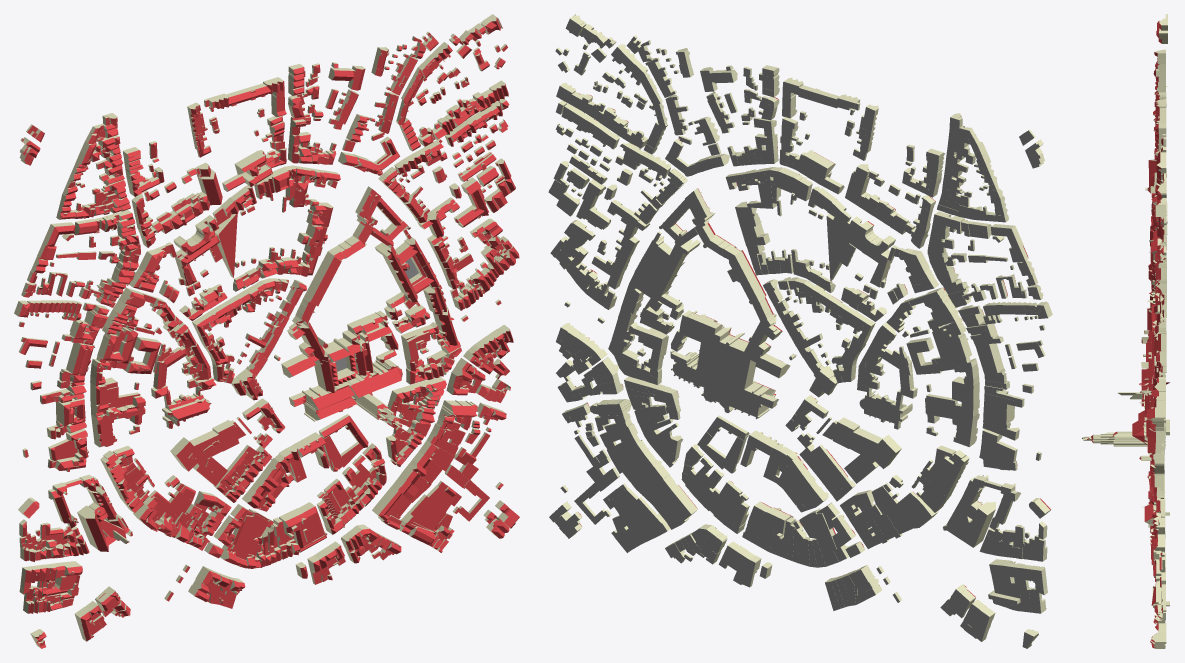
3 renders of one model, left to right at view 1: azimuth 30°, elevation 25°; view 2: azimuth 150°, elevation 25°; view 3: azimuth 270°, elevation 25°, orthographic. The views are drawn at different scales.
Parts seen in each view (by area): view 1: NL.IMBAG.Pand.0687100000029292-604, NL.IMBAG.Pand.0687100000029250-644, NL.IMBAG.Pand.0687100000029229-276, NL.IMBAG.Pand.0687100001313954-155, NL.IMBAG.Pand.0687100000029116-40, NL.IMBAG.Pand.0687100000029099-1, NL.IMBAG.Pand.0687100000031767-462, NL.IMBAG.Pand.0687100000029040-580, NL.IMBAG.Pand.0687100000028988-810, NL.IMBAG.Pand.0687100000028953-209, NL.IMBAG.Pand.0687100000029012-9, NL.IMBAG.Pand.0687100000030789-363 (+13 smaller); view 2: NL.IMBAG.Pand.0687100000029292-604, NL.IMBAG.Pand.0687100000029250-644, NL.IMBAG.Pand.0687100000029229-276, NL.IMBAG.Pand.0687100001313954-155, NL.IMBAG.Pand.0687100000029116-40, NL.IMBAG.Pand.0687100000029099-1, NL.IMBAG.Pand.0687100000031767-462, NL.IMBAG.Pand.0687100000029012-9, NL.IMBAG.Pand.0687100000029040-580, NL.IMBAG.Pand.0687100000028953-209, NL.IMBAG.Pand.0687100000028988-810, NL.IMBAG.Pand.0687100000030789-363 (+12 smaller); view 3: NL.IMBAG.Pand.0687100000029292-604, NL.IMBAG.Pand.0687100000029250-644, NL.IMBAG.Pand.0687100000028953-209, NL.IMBAG.Pand.0687100000025794-655, NL.IMBAG.Pand.0687100000029116-40, NL.IMBAG.Pand.0687100000028059-556, NL.IMBAG.Pand.0687100000026802-540, NL.IMBAG.Pand.0687100000028866-863, NL.IMBAG.Pand.0687100000031767-462, NL.IMBAG.Pand.0687100000028966-521, NL.IMBAG.Pand.0687100000028654-557, NL.IMBAG.Pand.0687100000028923-479 (+4 smaller).
Boxes of the visible parts, <box> form: NL.IMBAG.Pand.0687100000029292-604: <box>281,244,402,427</box>; NL.IMBAG.Pand.0687100000029250-644: <box>375,229,447,333</box>; NL.IMBAG.Pand.0687100000029229-276: <box>166,197,238,285</box>; NL.IMBAG.Pand.0687100001313954-155: <box>170,420,245,485</box>; NL.IMBAG.Pand.0687100000029116-40: <box>77,483,132,551</box>; NL.IMBAG.Pand.0687100000029099-1: <box>90,392,145,447</box>; NL.IMBAG.Pand.0687100000031767-462: <box>400,485,454,544</box>; NL.IMBAG.Pand.0687100000029040-580: <box>279,502,327,552</box>; NL.IMBAG.Pand.0687100000028988-810: <box>355,186,410,248</box>; NL.IMBAG.Pand.0687100000028953-209: <box>207,77,286,117</box>; NL.IMBAG.Pand.0687100000029012-9: <box>151,385,211,428</box>; NL.IMBAG.Pand.0687100000030789-363: <box>96,327,137,370</box>; NL.IMBAG.Pand.0687100000029292-604: <box>670,244,790,419</box>; NL.IMBAG.Pand.0687100000029250-644: <box>621,231,700,334</box>; NL.IMBAG.Pand.0687100000029229-276: <box>826,199,897,287</box>; NL.IMBAG.Pand.0687100001313954-155: <box>822,417,901,483</box>; NL.IMBAG.Pand.0687100000029116-40: <box>943,484,995,547</box>; NL.IMBAG.Pand.0687100000029099-1: <box>925,394,979,447</box>; NL.IMBAG.Pand.0687100000031767-462: <box>610,487,667,544</box>; NL.IMBAG.Pand.0687100000029012-9: <box>857,384,917,429</box>; NL.IMBAG.Pand.0687100000029040-580: <box>742,501,793,551</box>; NL.IMBAG.Pand.0687100000028953-209: <box>782,77,860,118</box>; NL.IMBAG.Pand.0687100000028988-810: <box>659,188,714,246</box>; NL.IMBAG.Pand.0687100000030789-363: <box>932,328,971,372</box>; NL.IMBAG.Pand.0687100000029292-604: <box>1082,307,1165,446</box>; NL.IMBAG.Pand.0687100000029250-644: <box>1144,330,1155,408</box>; NL.IMBAG.Pand.0687100000028953-209: <box>1154,100,1166,155</box>; NL.IMBAG.Pand.0687100000025794-655: <box>1150,396,1165,418</box>; NL.IMBAG.Pand.0687100000029116-40: <box>1118,354,1169,408</box>; NL.IMBAG.Pand.0687100000028059-556: <box>1147,437,1164,453</box>; NL.IMBAG.Pand.0687100000026802-540: <box>1151,623,1166,643</box>; NL.IMBAG.Pand.0687100000028866-863: <box>1149,230,1161,264</box>; NL.IMBAG.Pand.0687100000031767-462: <box>1151,576,1161,608</box>; NL.IMBAG.Pand.0687100000028966-521: <box>1161,556,1165,620</box>; NL.IMBAG.Pand.0687100000028654-557: <box>1141,503,1156,525</box>; NL.IMBAG.Pand.0687100000028923-479: <box>1151,546,1161,576</box>.
Bounding box in the file's own units: 516 × 523 × 93.79.
